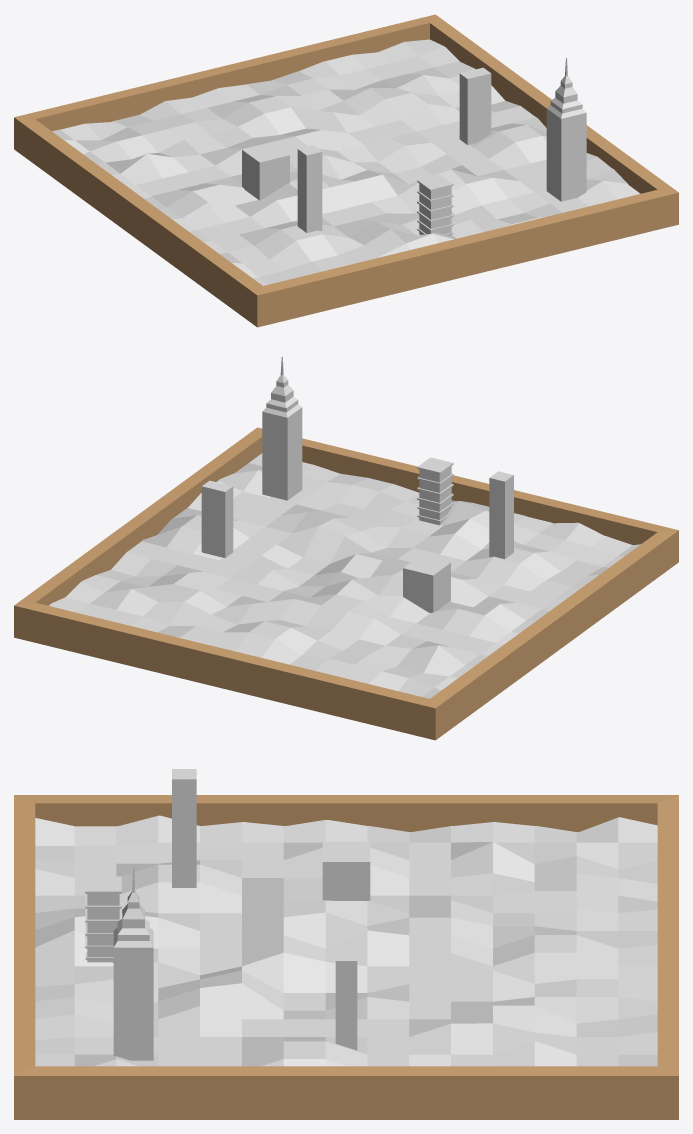
File: Sandbox.fbx
3 renders of one model, top to bottom at view 1: azimuth 30°, elevation 25°; view 2: azimuth 150°, elevation 25°; view 3: azimuth 270°, elevation 25°, orthographic. The views are drawn at different scales.
Visible parts, largest first — view 1: sand, sandbox, type 1, type 5, type 4, type 3, type 2; view 2: sand, sandbox, type 1, type 5, type 4, type 3, type 2; view 3: sand, sandbox, type 1, type 3, type 4, type 2, type 5.
Part boxes in pixels (left/top/right/bottom): sand: left=52, top=39, right=640, bottom=285; sandbox: left=14, top=14, right=678, bottom=327; type 1: left=546, top=57, right=586, bottom=201; type 5: left=459, top=67, right=491, bottom=145; type 4: left=242, top=142, right=289, bottom=200; type 3: left=297, top=145, right=322, bottom=232; type 2: left=417, top=174, right=453, bottom=236; sand: left=49, top=453, right=640, bottom=698; sandbox: left=14, top=427, right=678, bottom=740; type 1: left=262, top=356, right=302, bottom=500; type 5: left=201, top=480, right=233, bottom=557; type 4: left=403, top=555, right=450, bottom=612; type 3: left=489, top=471, right=513, bottom=559; type 2: left=417, top=457, right=453, bottom=525; sand: left=35, top=815, right=657, bottom=1066; sandbox: left=14, top=795, right=678, bottom=1119; type 1: left=113, top=867, right=153, bottom=1060; type 3: left=172, top=769, right=196, bottom=887; type 4: left=322, top=841, right=370, bottom=900; type 2: left=85, top=876, right=121, bottom=962; type 5: left=335, top=945, right=357, bottom=1050.
Size of the model in its own units: 991 by 340 by 991.
